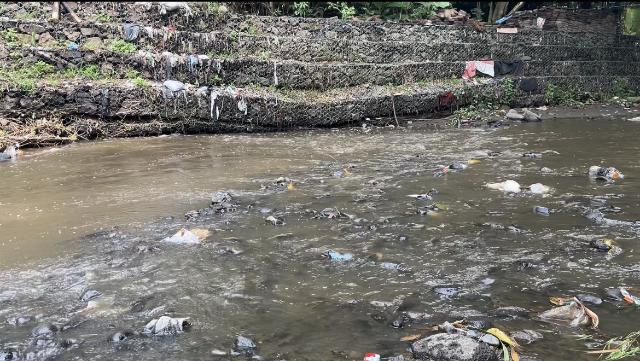Sampah Anorganik: (544, 294, 598, 332), (582, 162, 630, 184), (615, 286, 640, 311), (479, 179, 519, 193), (318, 248, 348, 259), (410, 190, 440, 200), (528, 184, 545, 195), (364, 351, 378, 361), (466, 159, 484, 165)
Sampah Organik: (413, 323, 521, 361), (166, 228, 210, 243), (420, 199, 450, 219), (337, 167, 355, 178), (285, 184, 296, 191), (442, 166, 449, 174)
